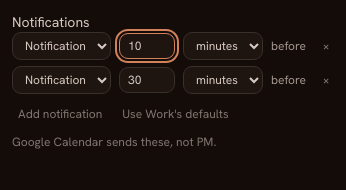
ReminderList › refuses a fraction, and the same notification twice
The width and height of the screenshot is (346, 190).
Replace the text in the field named "How many: 10 minutes before" with "1.5" at [147, 46], box [119, 33, 175, 59]
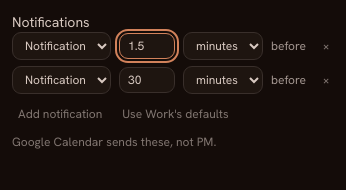
Leave the field named "How many: 10 minutes before", box [119, 33, 175, 59]
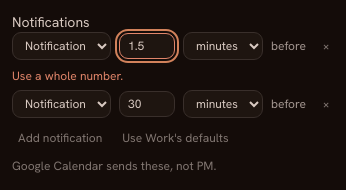
Expected: the text "Use a whole number." is shown, [12, 68, 123, 84]
Replace the text in the field named "How many: 10 minutes before" with "30" at [147, 46], box [119, 33, 175, 59]
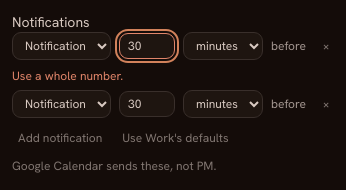
Leave the field named "How many: 10 minutes before", box [119, 33, 175, 59]
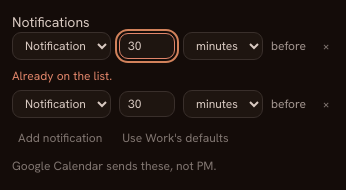
Expected: the text "Already on the list." is shown, [12, 68, 112, 84]
